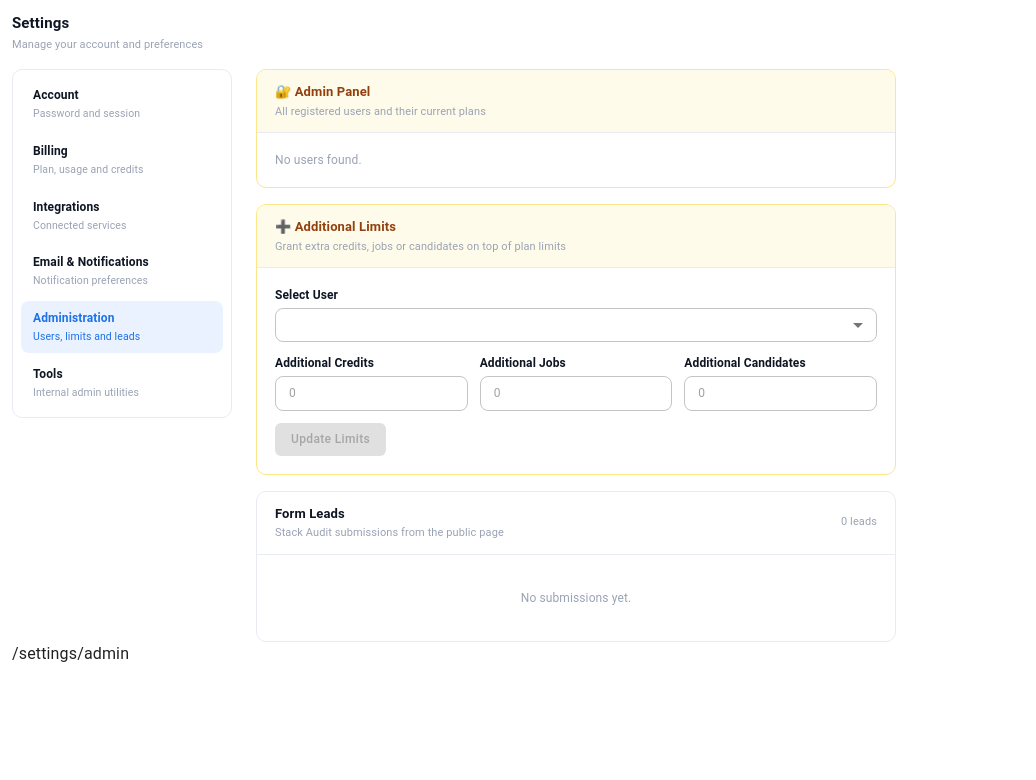
SettingsPage navigation › shows protected categories to administrators
Expected: the button "Email & Notifications Notification preferences" is shown, [21, 245, 223, 297]
Click the button "Tools Internal admin utilities" at point(122, 383), box [21, 357, 223, 409]
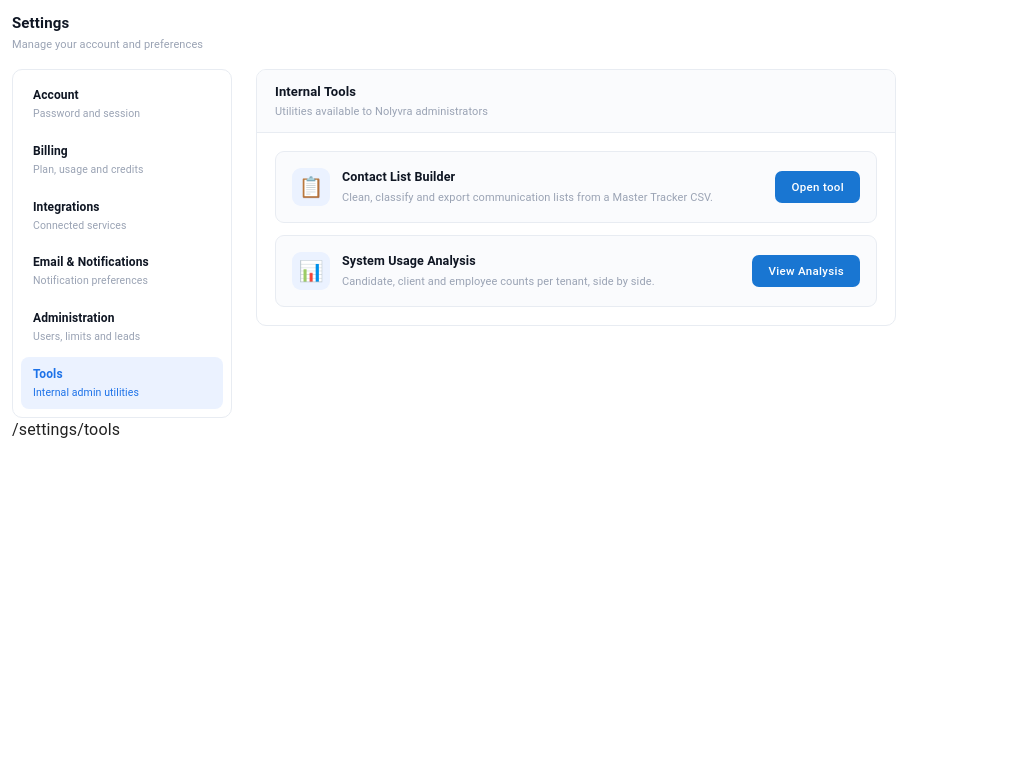
Expected: the button "Open tool" is shown, [776, 171, 860, 203]
